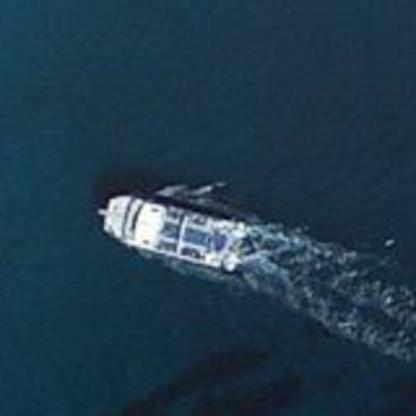ship: (87, 190, 253, 276)
